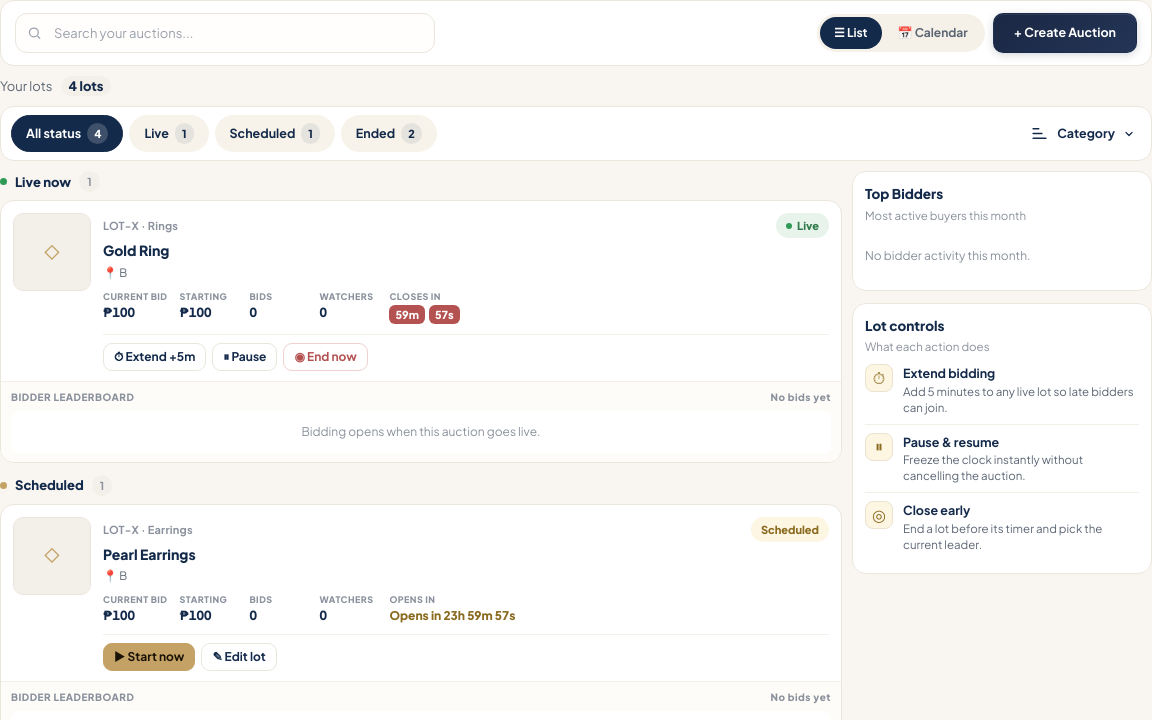
Test: search + status + category combine
This screenshot has width=1152, height=720.
Expected: the text "Gold Ring" is shown, top-left (103, 241), bottom-right (169, 259)
Type "gold" into the field with placeholder "Search your auctions..." at (225, 33), box top-left (15, 13), bottom-right (435, 53)
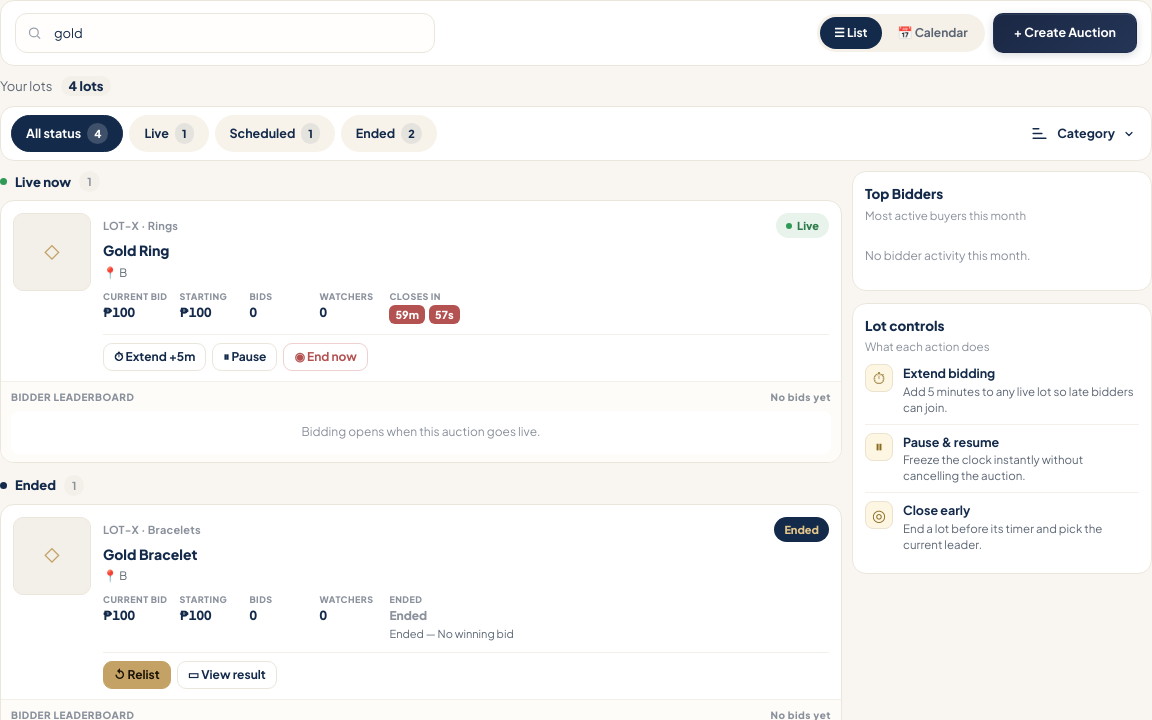
Click the button with class "mauc-cattrigger" at (1083, 134), box top-left (1024, 117), bottom-right (1141, 150)
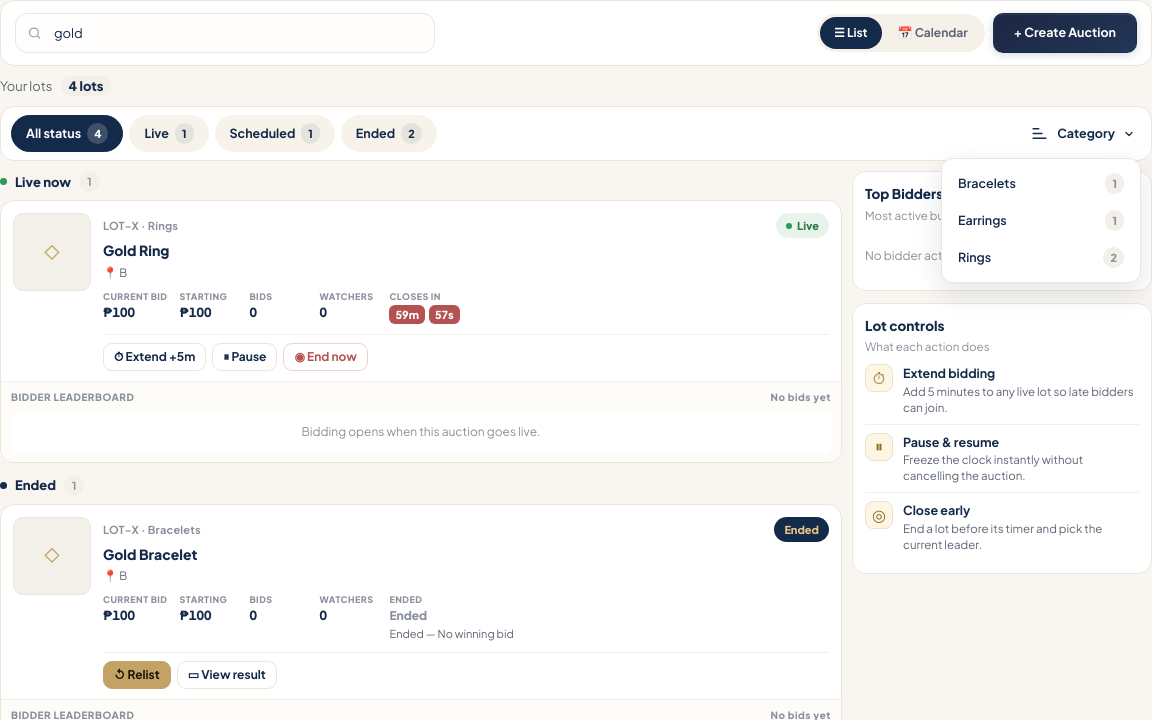
Click the button "Bracelets 1" at (1041, 184), box top-left (948, 165), bottom-right (1134, 202)
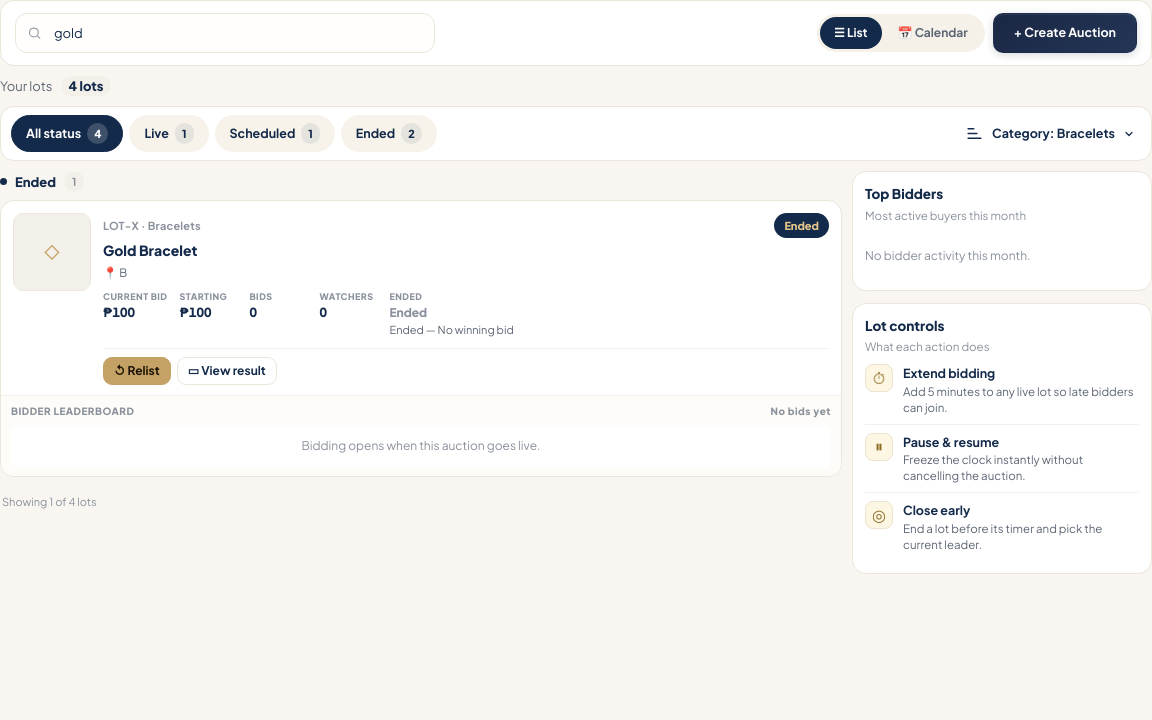
Expected: the text "Gold Bracelet" is shown, top-left (103, 241), bottom-right (197, 259)
Expected: the text "Gold Ring" is gone
